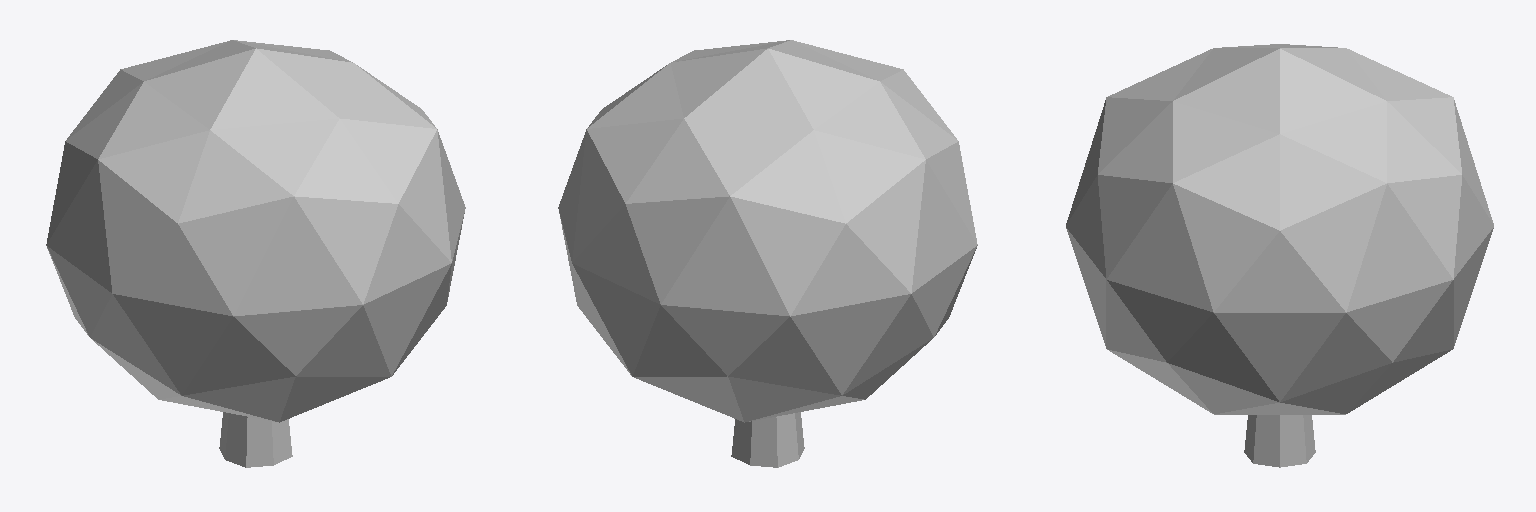
Rendered from bush0.obj.
3 views of the same model, side by side, from view 1: azimuth 30°, elevation 25°; view 2: azimuth 150°, elevation 25°; view 3: azimuth 270°, elevation 25° (orthographic).
Visible parts, largest first — view 1: stalk_Cube.001; view 2: stalk_Cube.001; view 3: stalk_Cube.001.
Boxes of the visible parts, x1,y1,x2,y2 form: stalk_Cube.001: [46, 40, 465, 467]; stalk_Cube.001: [558, 40, 977, 467]; stalk_Cube.001: [1066, 44, 1493, 467].
Bounding box in the file's own units: 0.5706 × 0.6409 × 0.6.